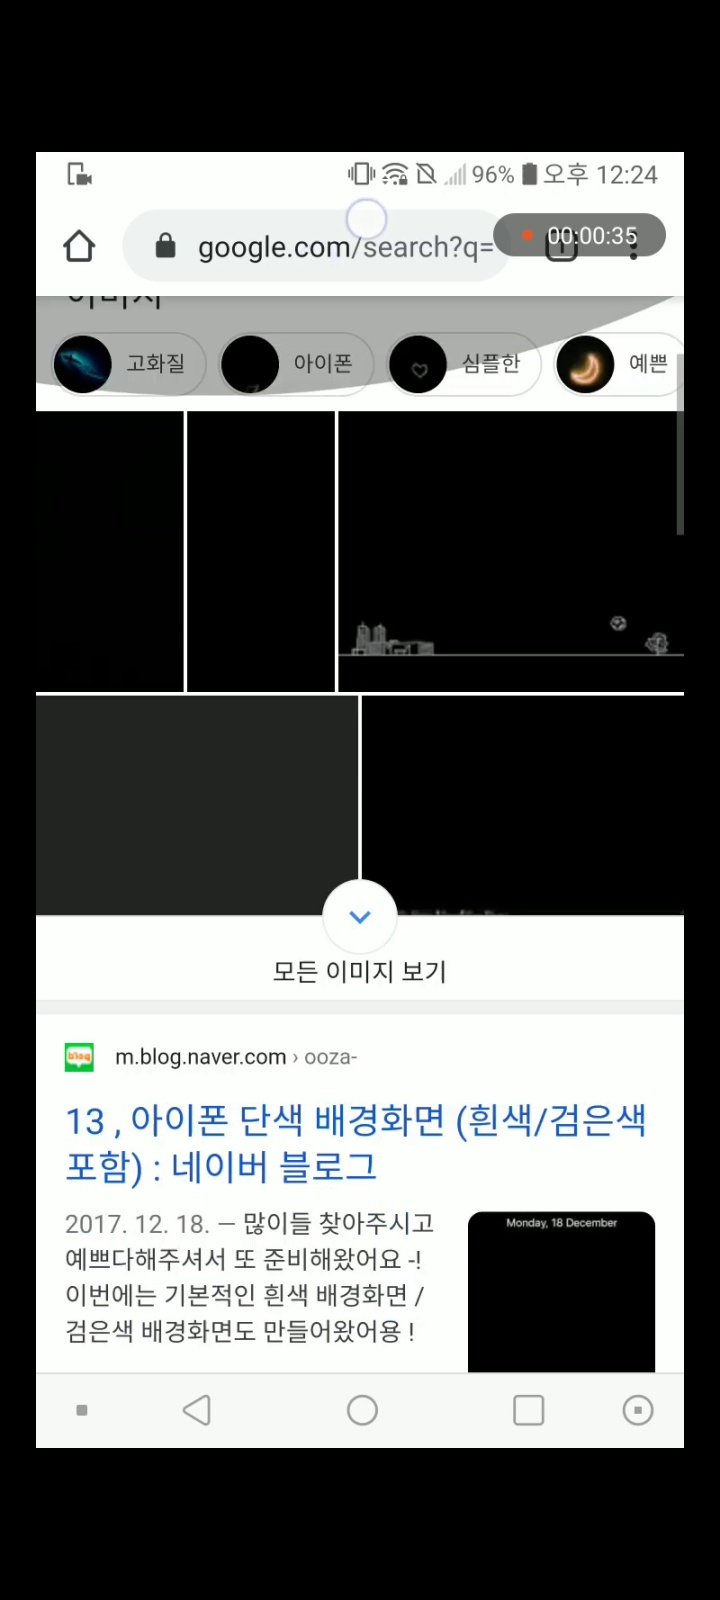Cursor: (345, 197, 390, 242)
